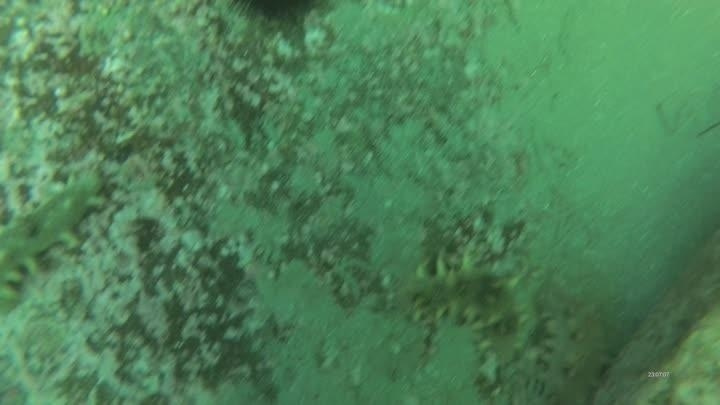echinus: (224, 1, 326, 30)
holothurian: (393, 255, 546, 373), (0, 167, 109, 309), (537, 285, 617, 405)
